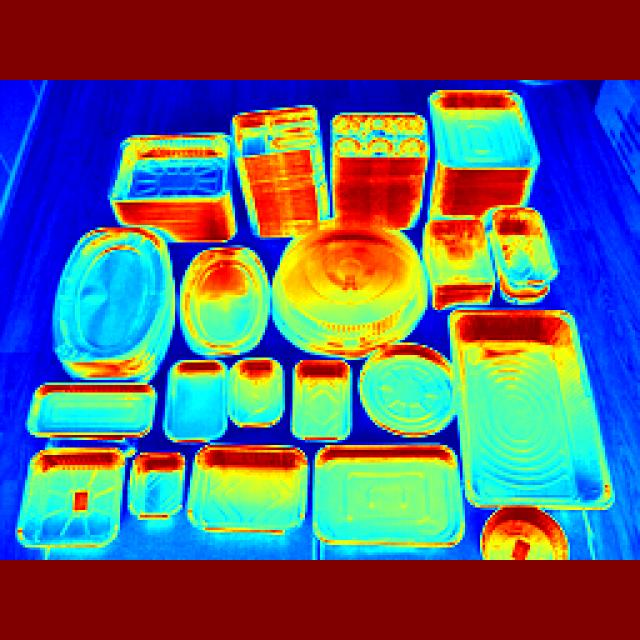Aluminium Food Cans: (434, 307, 605, 512), (279, 228, 432, 342), (314, 443, 461, 552), (214, 98, 321, 232), (323, 102, 434, 230), (109, 121, 233, 226), (203, 440, 315, 545), (69, 263, 182, 353), (420, 84, 513, 192), (24, 451, 130, 545), (357, 338, 452, 430), (44, 376, 165, 442), (468, 504, 567, 576), (204, 263, 284, 346), (488, 200, 552, 292), (430, 206, 494, 297), (157, 359, 226, 428), (292, 362, 343, 436), (134, 448, 183, 522), (230, 354, 278, 426)
